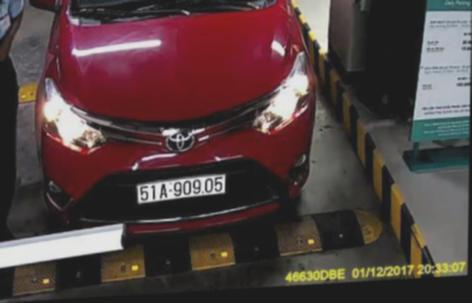License_Plate: (135, 170, 228, 208)
